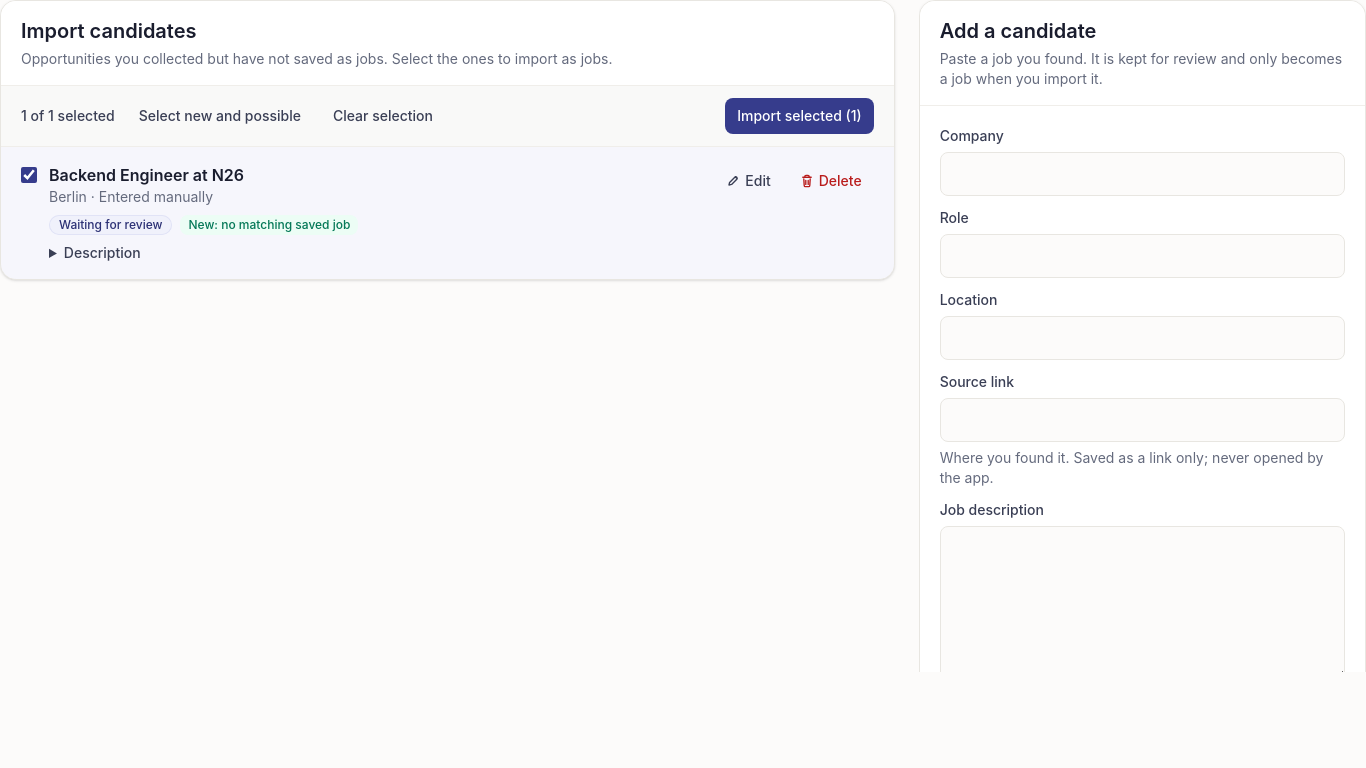
Test: ImportCandidatesSection › renders pasted markup as text, never as HTML
This screenshot has width=1366, height=768.
Click the heading "Description": {"x": 102, "y": 252} [64, 244, 141, 261]
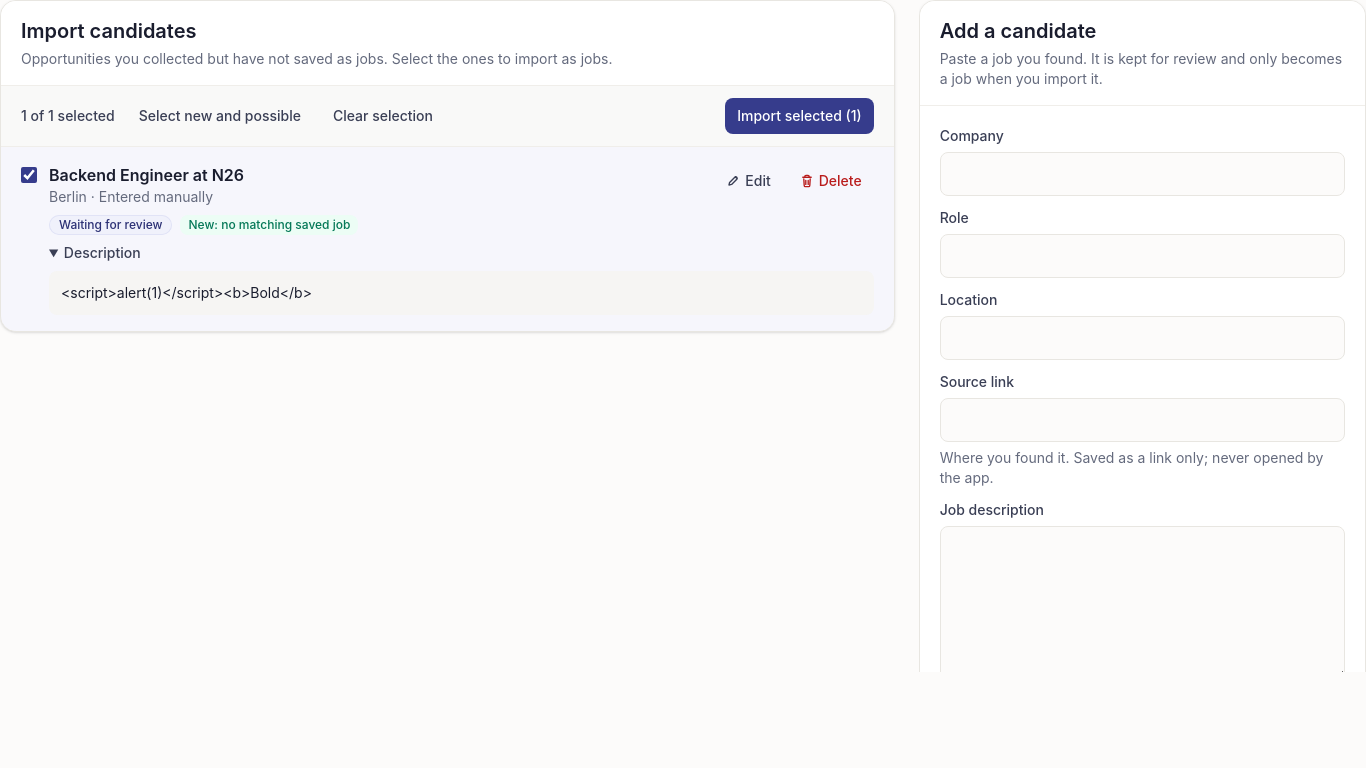
expect the text "<script>alert(1)</script><b>Bold</b>" is shown: met, box [49, 271, 874, 315]
